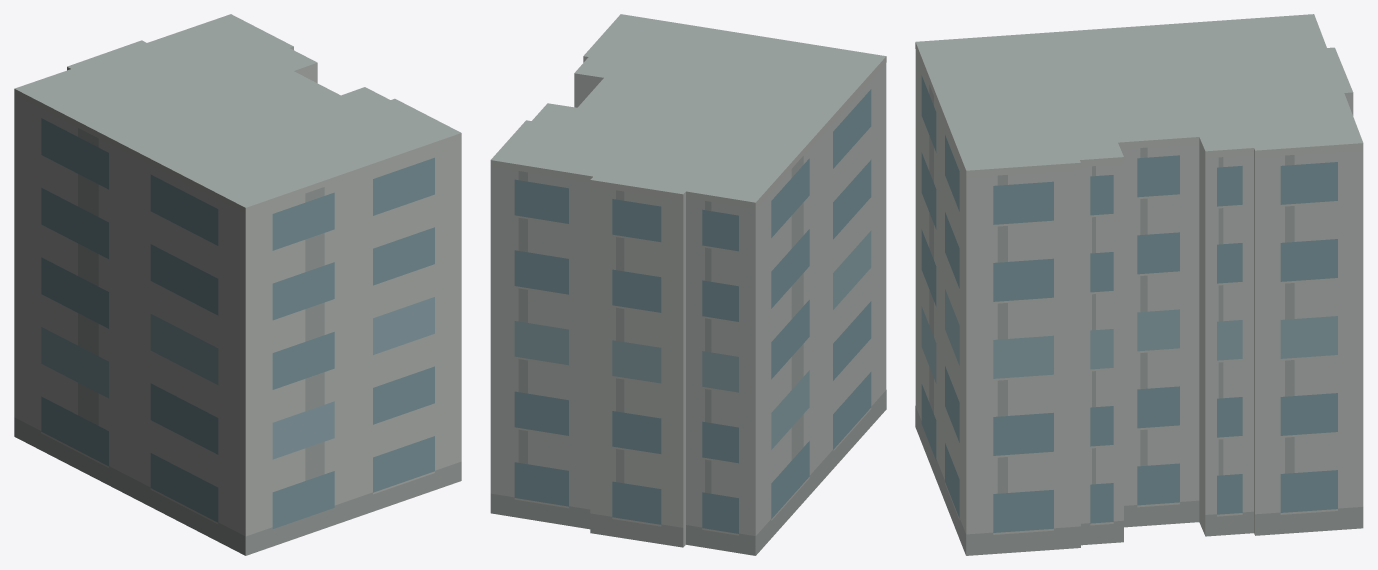
File: survey-upis-32830812.glb
The picture shows the model from 3 angles, left to right: view 1: azimuth 30°, elevation 25°; view 2: azimuth 150°, elevation 25°; view 3: azimuth 270°, elevation 25°; orthographic projection. The views are drawn at different scales.
Visible parts, largest first — view 1: survey-upis-32830812.tmp; view 2: survey-upis-32830812.tmp; view 3: survey-upis-32830812.tmp.
Boxes of the visible parts, x1,y1,x2,y2 form: survey-upis-32830812.tmp: (14, 14, 461, 555); survey-upis-32830812.tmp: (490, 14, 886, 555); survey-upis-32830812.tmp: (915, 14, 1363, 555).
Bounding box in the file's own units: 11.75 × 13.45 × 14.19.
